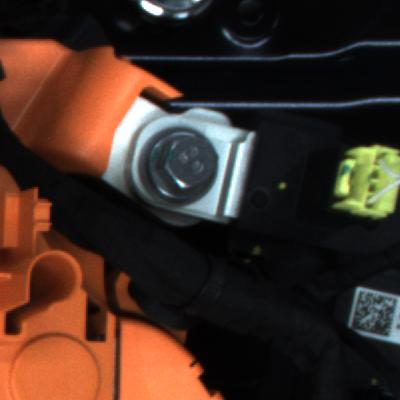nut_b: (135, 124, 230, 211)
